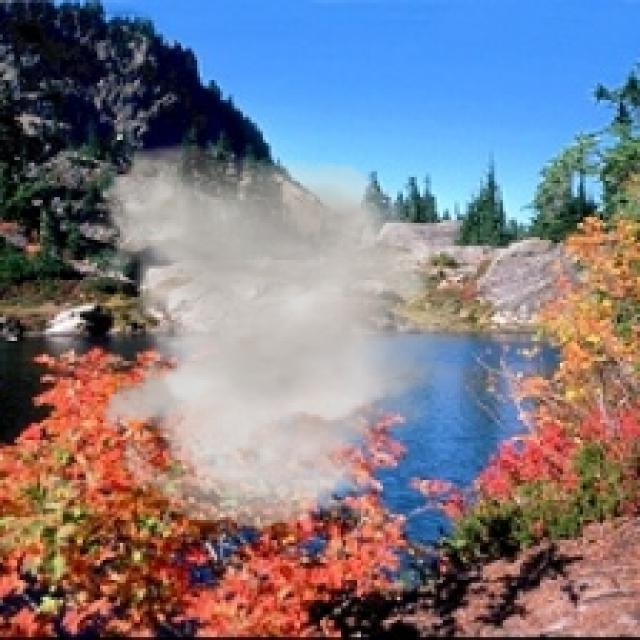Smoke: (88, 142, 486, 528)
